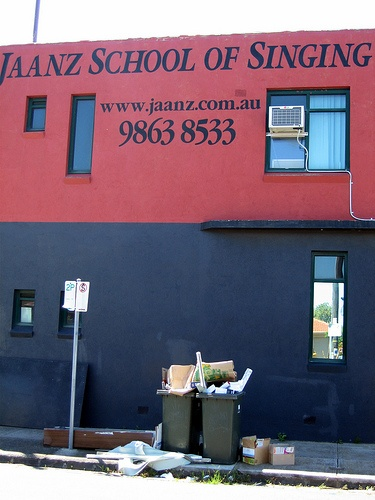rubble: (75, 373, 312, 483)
